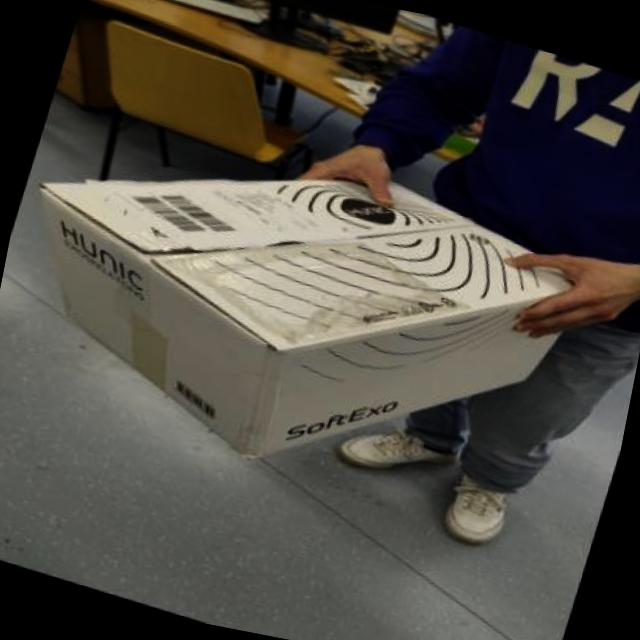box: (0, 73, 615, 558)
